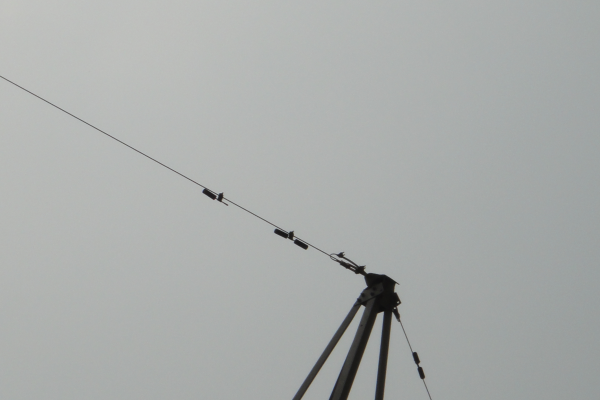damper: (270, 225, 309, 250), (411, 351, 425, 381)
damper_defect: (201, 186, 230, 207)
